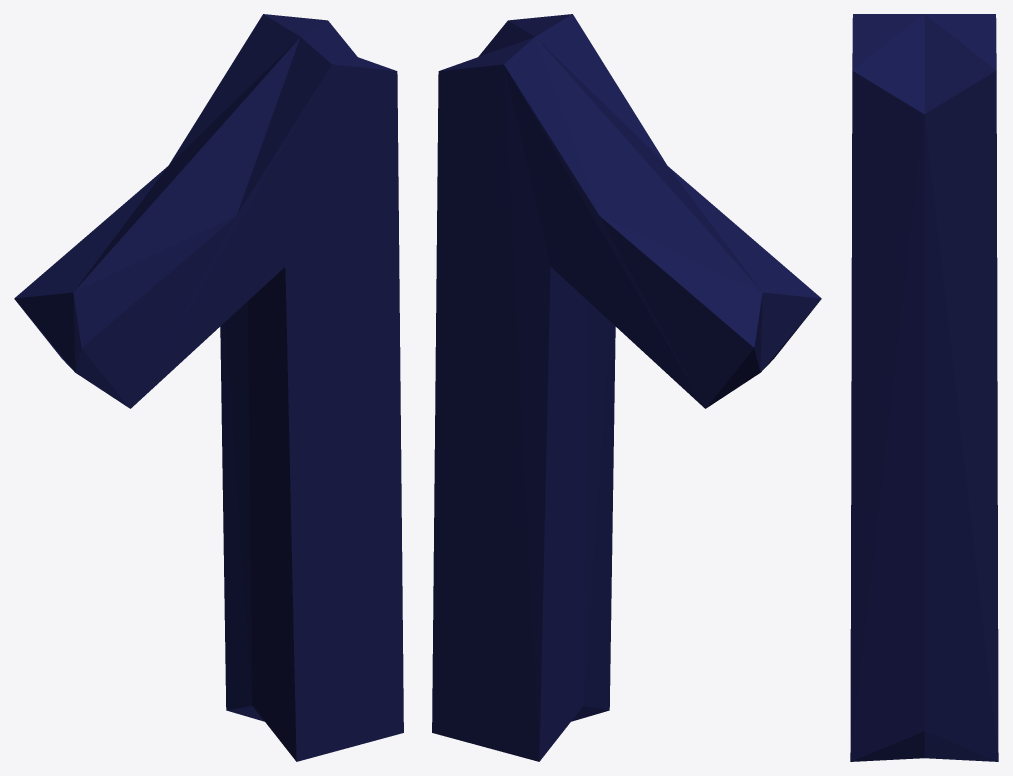
3 views of the same model, side by side, from view 1: azimuth 30°, elevation 25°; view 2: azimuth 150°, elevation 25°; view 3: azimuth 270°, elevation 25° (orthographic). The views are drawn at different scales.
Parts seen in each view (by area): view 1: One; view 2: One; view 3: One.
Part boxes in pixels (x1=…): One: x1=14, y1=14, x2=403, y2=761; One: x1=432, y1=14, x2=821, y2=761; One: x1=850, y1=14, x2=998, y2=761.
Size of the model in its own units: 0.2428 by 0.5003 by 0.0914.
